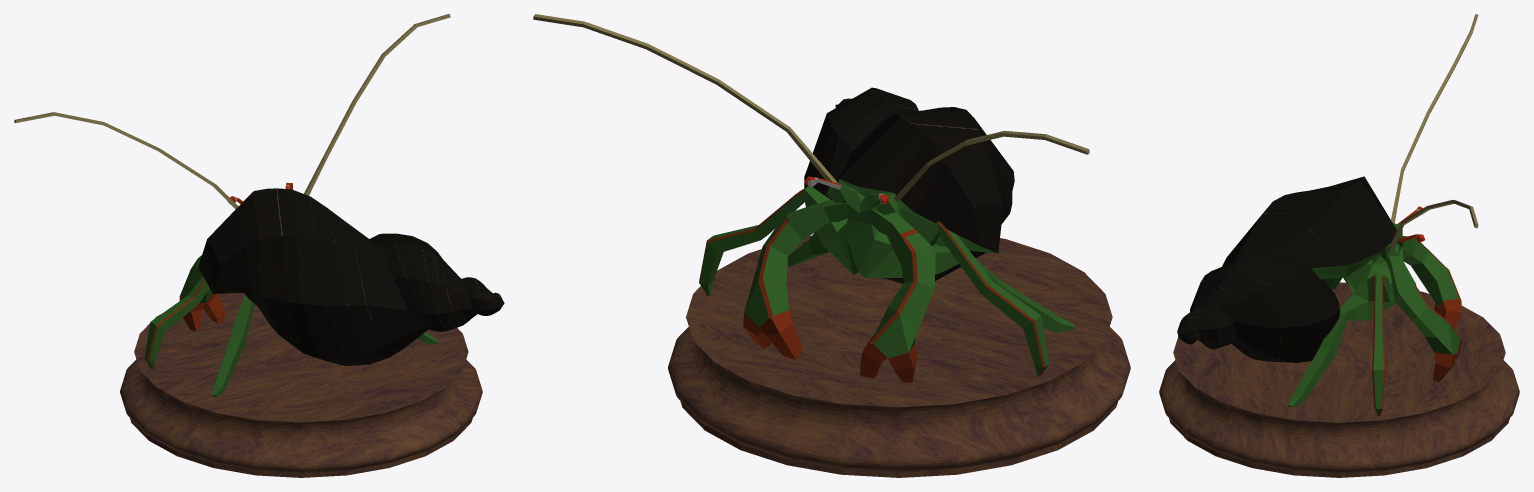
File: crab.gltf
3 views of the same model, side by side, from view 1: azimuth 30°, elevation 25°; view 2: azimuth 150°, elevation 25°; view 3: azimuth 270°, elevation 25° (orthographic). The views are drawn at different scales.
Parts seen in each view (by area): view 1: BézierCurve, Cube; view 2: BézierCurve, Cube; view 3: BézierCurve, Cube.
Part boxes in pixels (x1=…): BézierCurve: x1=120, y1=293, x2=482, y2=477; Cube: x1=14, y1=14, x2=504, y2=397; BézierCurve: x1=668, y1=235, x2=1130, y2=477; Cube: x1=533, y1=14, x2=1089, y2=382; BézierCurve: x1=1159, y1=282, x2=1519, y2=477; Cube: x1=1177, y1=14, x2=1478, y2=415.
Size of the model in its own units: 1.32 by 0.8338 by 0.9545.
Materials: 7 (7 with a texture image).
